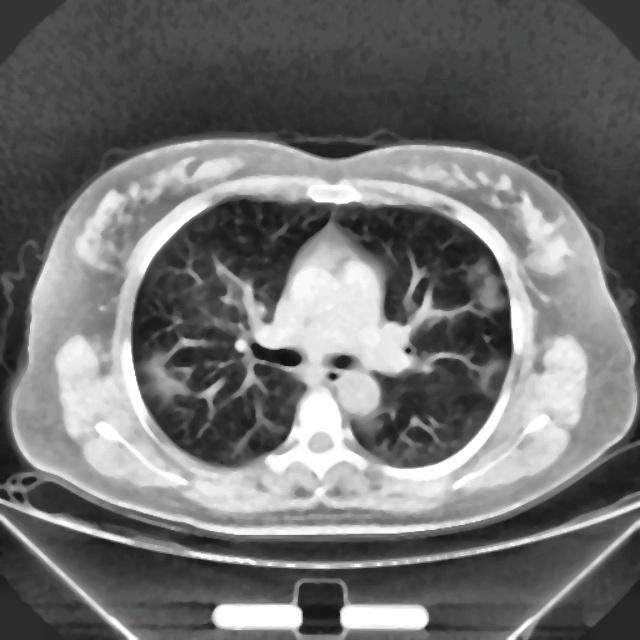covid: (7, 133, 637, 542)
